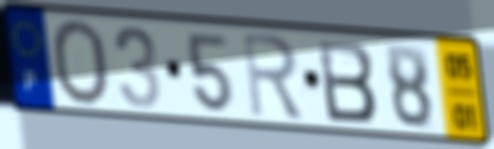3: (112, 23, 161, 110)
5: (183, 32, 238, 114)
8: (384, 42, 436, 132)
B: (314, 36, 380, 125)
O: (49, 17, 112, 108)
R: (240, 30, 307, 122)
